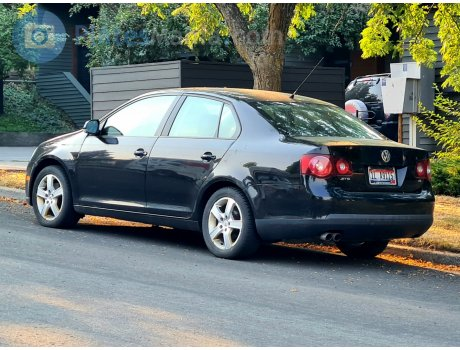license plate: (369, 166, 395, 183)
